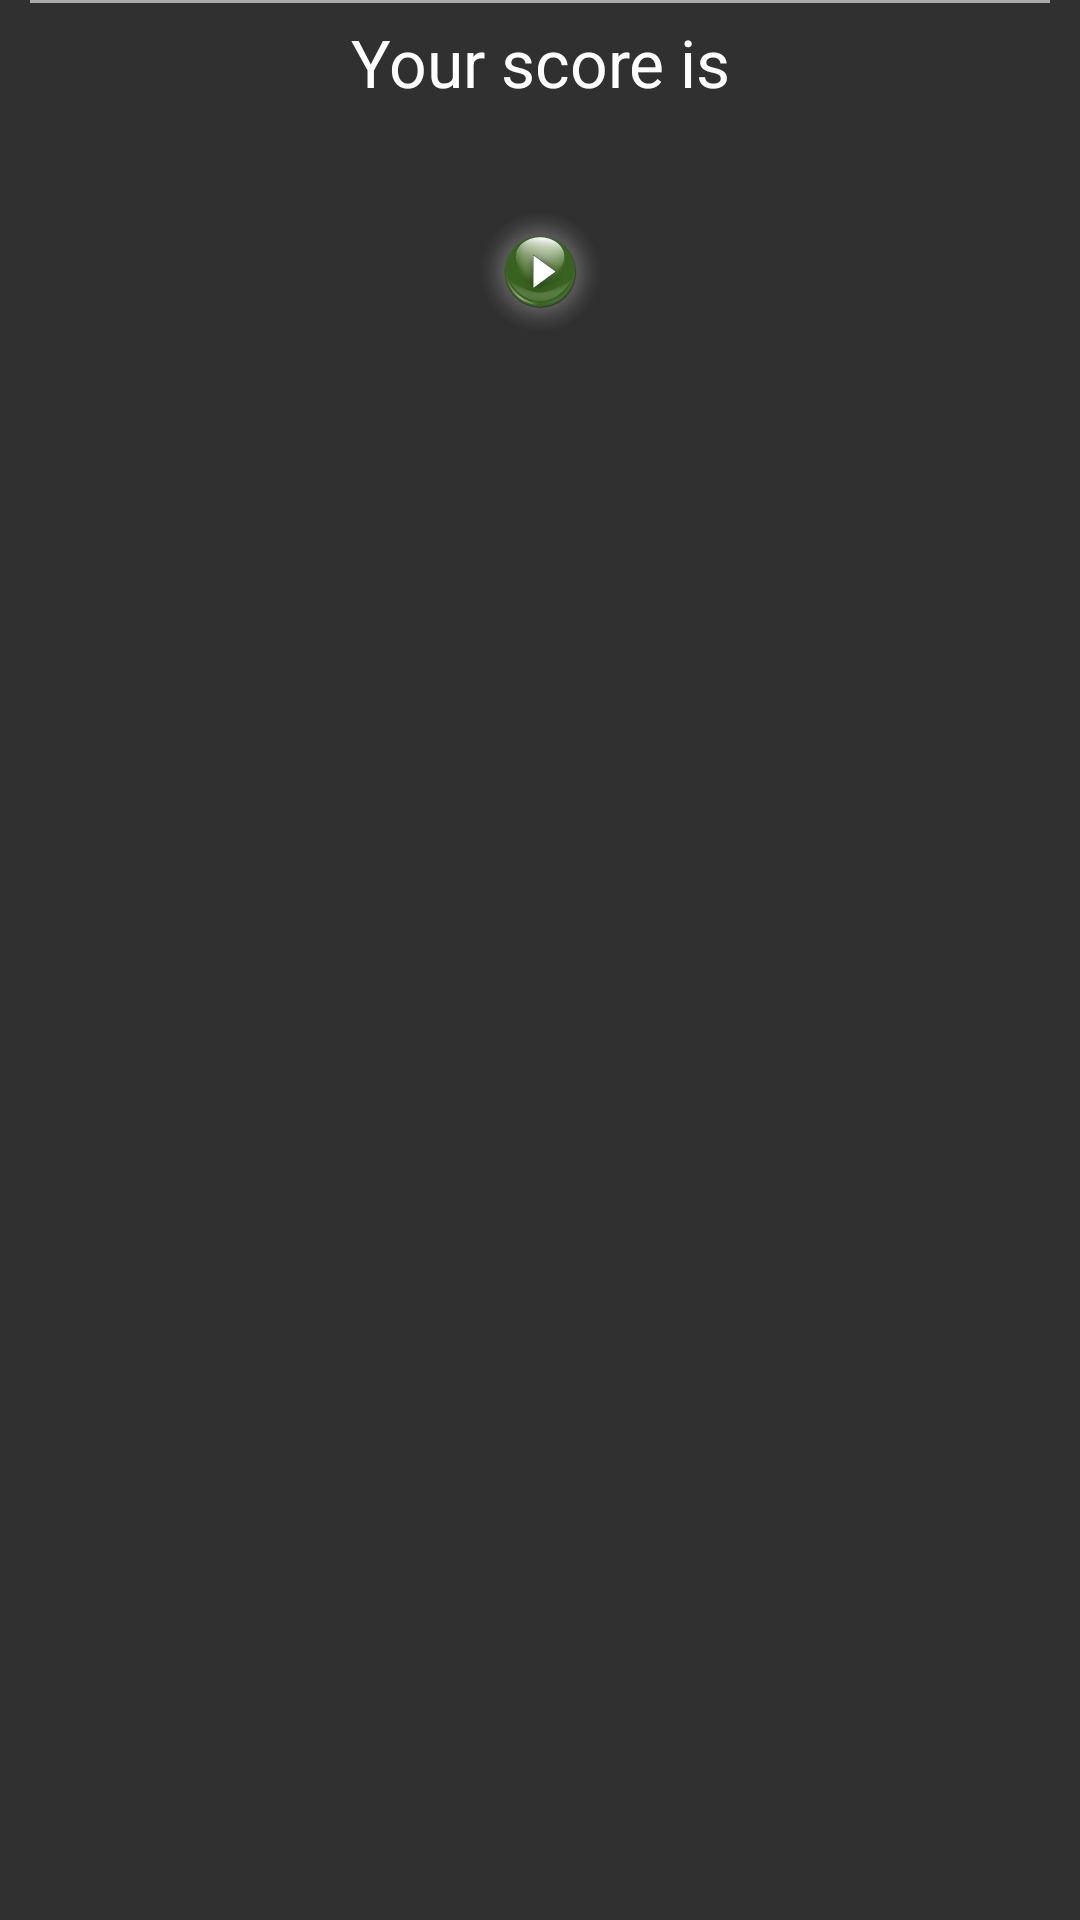

Icon bounding boxes for this 1080px×1920px phone screenshot, format {"left": x1, "top": y1, "right": x2, "bottom": y2}:
continue: {"left": 496, "top": 228, "right": 584, "bottom": 316}
